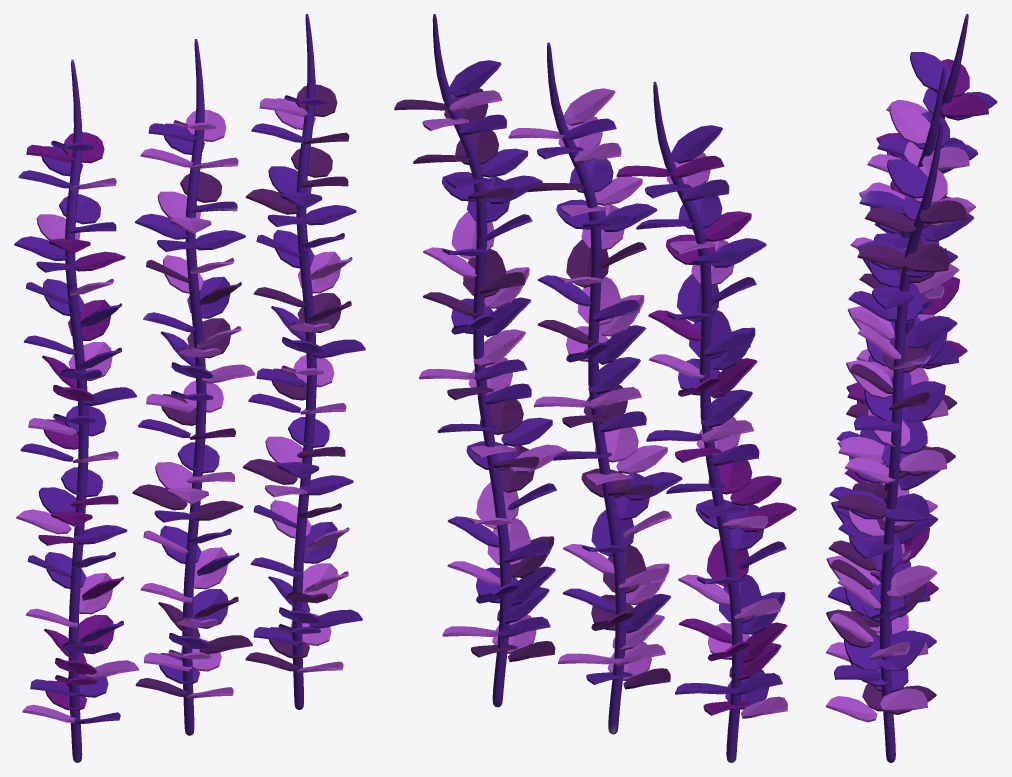
Rendered from seaweedAsset_edit_for_FBX.fbx.
3 views of the same model, side by side, from view 1: azimuth 30°, elevation 25°; view 2: azimuth 150°, elevation 25°; view 3: azimuth 270°, elevation 25° (orthographic). The views are drawn at different scales.
Visible parts, largest first — view 1: seaweed03, seaweed02, seaweed01; view 2: seaweed01, seaweed02, seaweed03; view 3: seaweed03, seaweed02, seaweed01.
Boxes of the visible parts, bbox=[...] form: seaweed03: bbox=[242, 14, 365, 709]; seaweed02: bbox=[132, 39, 255, 735]; seaweed01: bbox=[14, 59, 138, 762]; seaweed01: bbox=[616, 81, 796, 762]; seaweed02: bbox=[508, 42, 682, 734]; seaweed03: bbox=[394, 14, 566, 707]; seaweed03: bbox=[825, 120, 975, 762]; seaweed02: bbox=[826, 66, 978, 661]; seaweed01: bbox=[828, 14, 997, 605].
Bounding box in the file's own units: 99.8 × 188 × 44.47.
